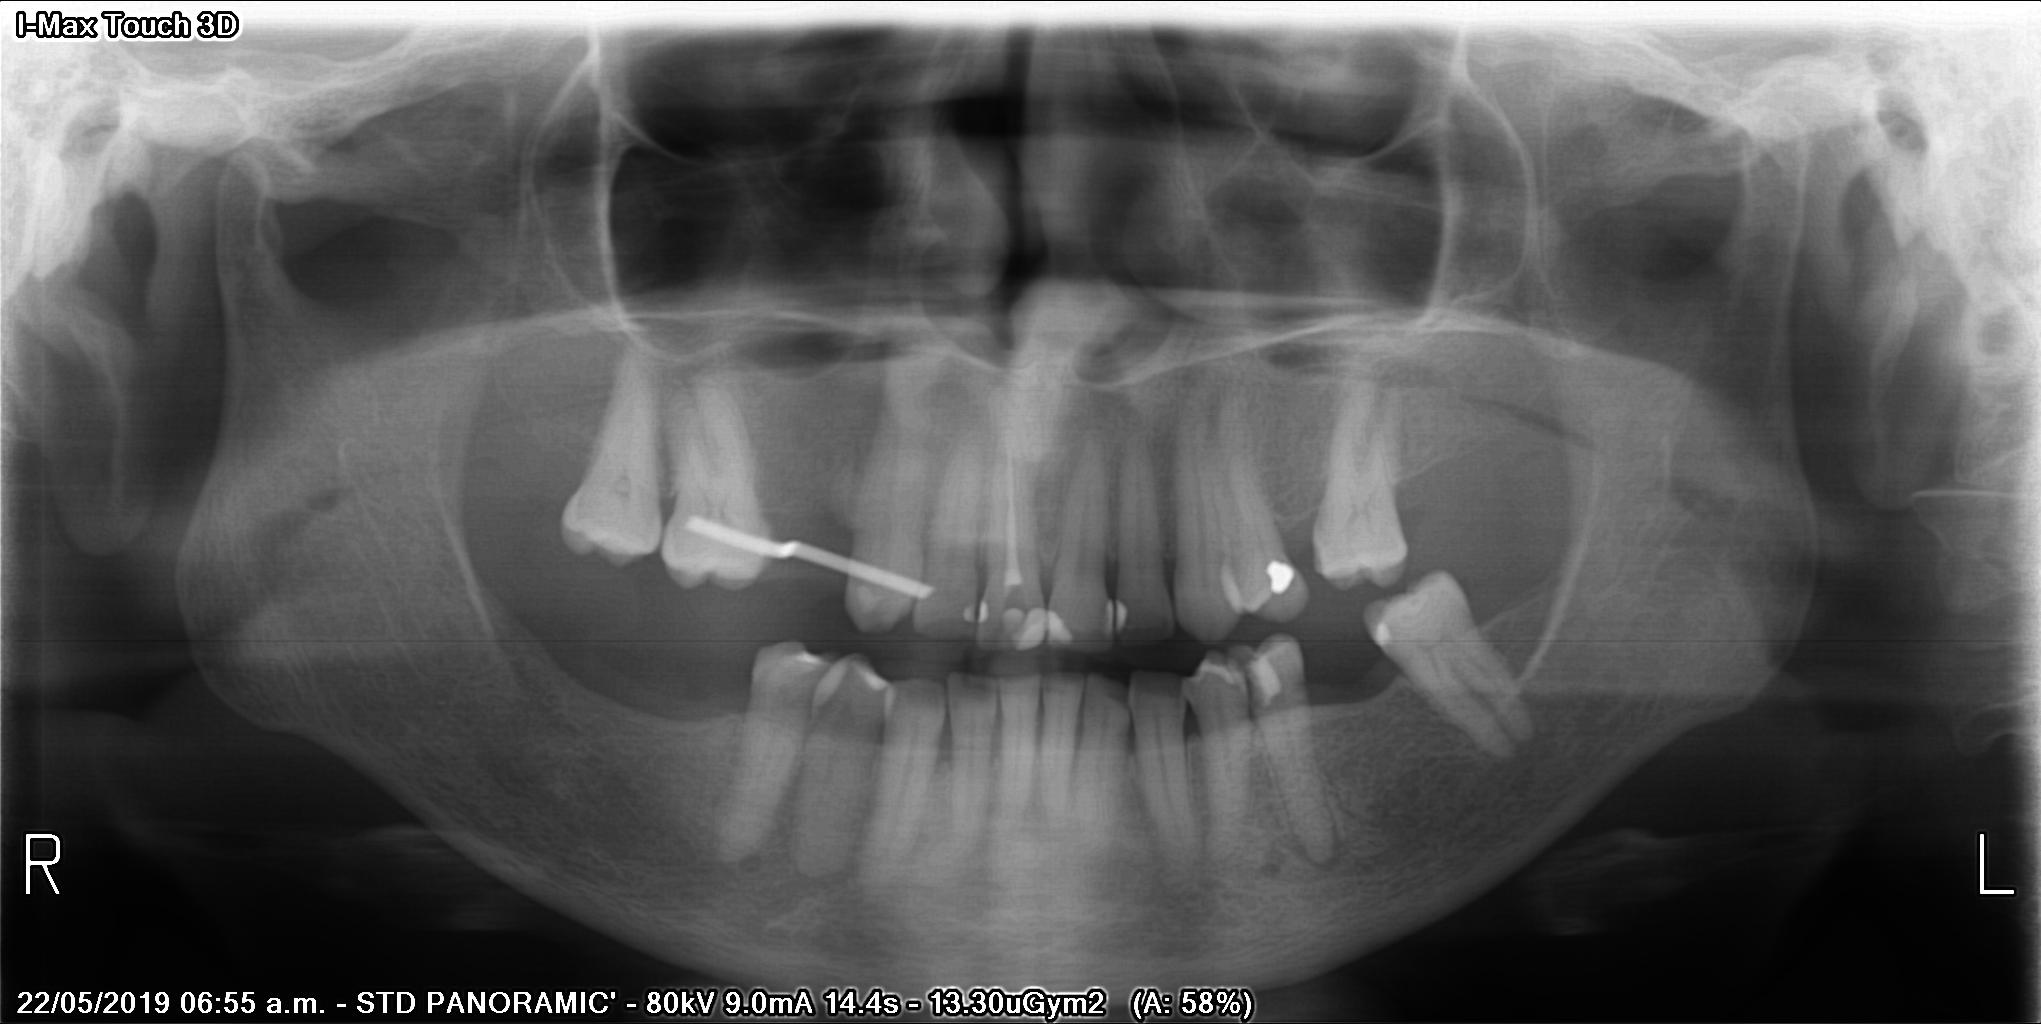Çürük: (1261, 560, 1310, 602), (1021, 613, 1052, 654), (1358, 623, 1400, 650), (1052, 620, 1080, 647), (1105, 600, 1126, 630), (978, 603, 998, 624), (964, 605, 978, 623)
Çürük Bölgesi: (1230, 667, 1271, 726)
